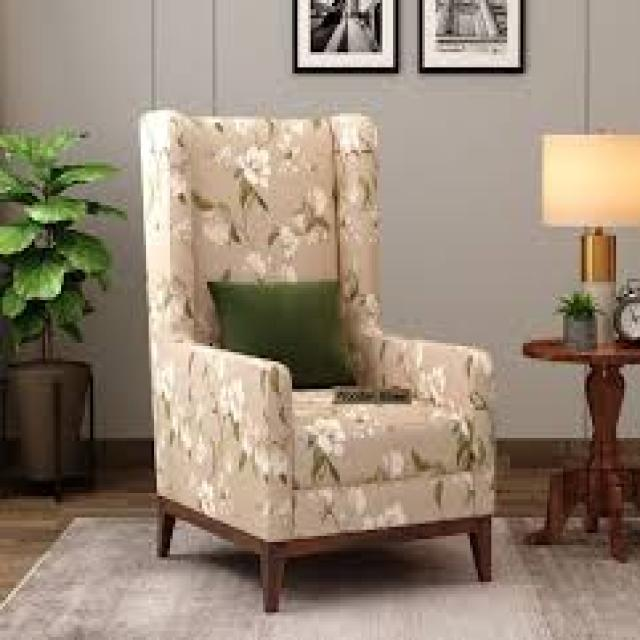chair: (68, 67, 533, 634)
